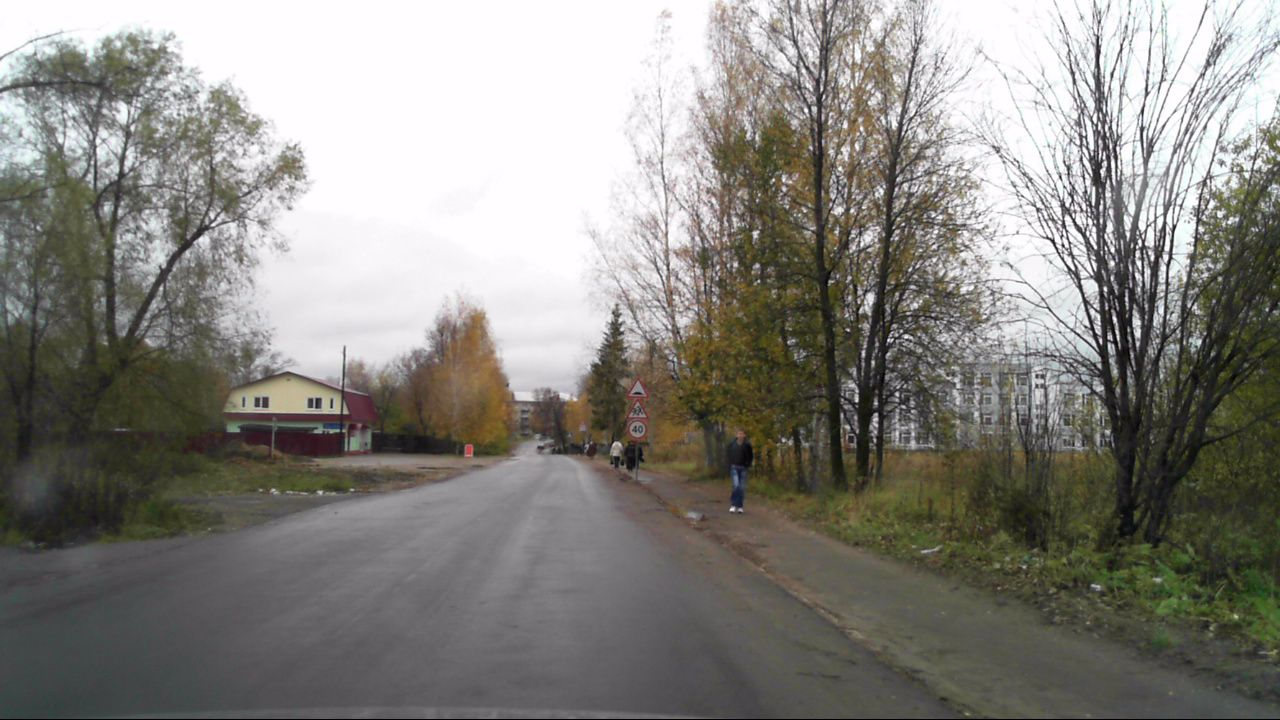speed_warning_40: (627, 418, 648, 438)
